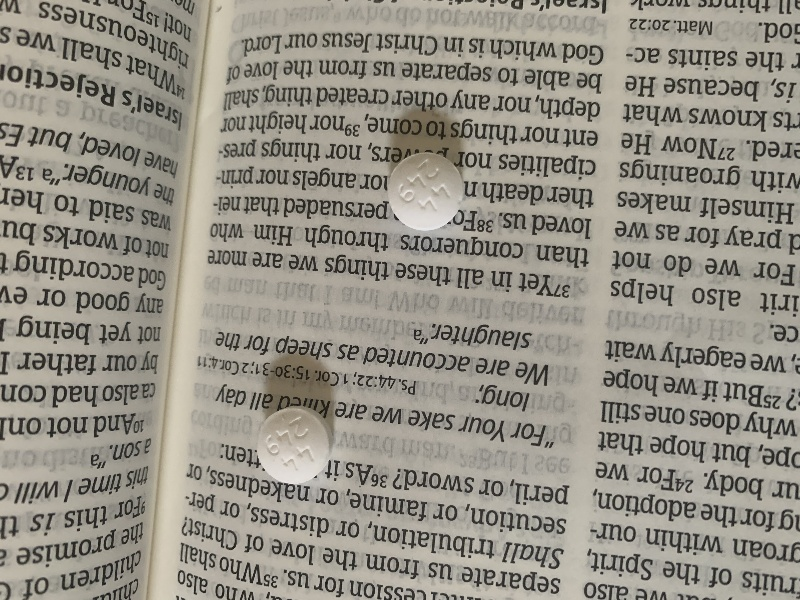Aspirin: (254, 400, 339, 489), (385, 148, 467, 236)
